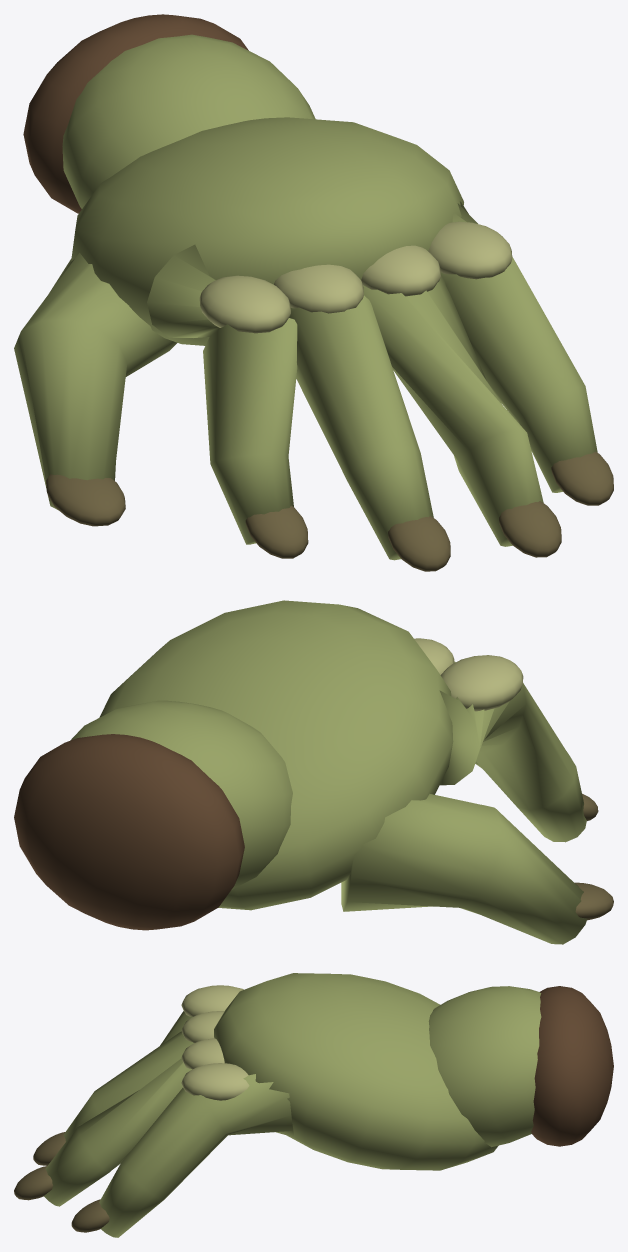
Rendered from monster-helping-hands-troll-hand.glb.
3 views of the same model, one above another, from view 1: azimuth 30°, elevation 25°; view 2: azimuth 150°, elevation 25°; view 3: azimuth 270°, elevation 25° (orthographic). The views are drawn at different scales.
Visible parts, largest first — view 1: helping-hands-troll-hand; view 2: helping-hands-troll-hand; view 3: helping-hands-troll-hand.
Part boxes in pixels (x1,y1,x2,y2): helping-hands-troll-hand: [14, 14, 613, 571]; helping-hands-troll-hand: [14, 600, 613, 944]; helping-hands-troll-hand: [14, 973, 613, 1237].
Bounding box in the file's own units: 0.593 × 0.3629 × 0.9389.
